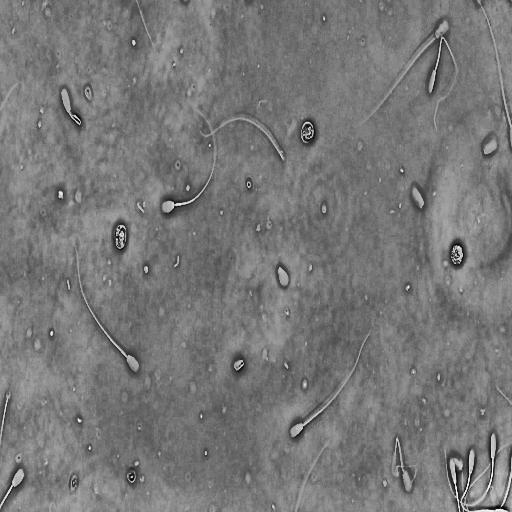coiled-tail: (69, 111, 81, 125)
dirt-particles: (111, 220, 129, 251), (448, 239, 466, 269), (300, 118, 316, 146), (231, 354, 247, 376), (125, 466, 138, 486)
folded-tail: (434, 37, 457, 129), (394, 438, 405, 476)
loose-head: (409, 180, 427, 213), (481, 132, 500, 158), (275, 262, 292, 291)
loose-tail: (198, 113, 288, 163), (294, 436, 332, 512), (0, 389, 11, 452)
normal: (361, 15, 452, 126), (71, 239, 142, 377), (288, 330, 372, 440), (160, 102, 218, 216), (443, 427, 498, 507), (426, 34, 459, 133), (392, 436, 413, 493), (59, 86, 83, 128)
